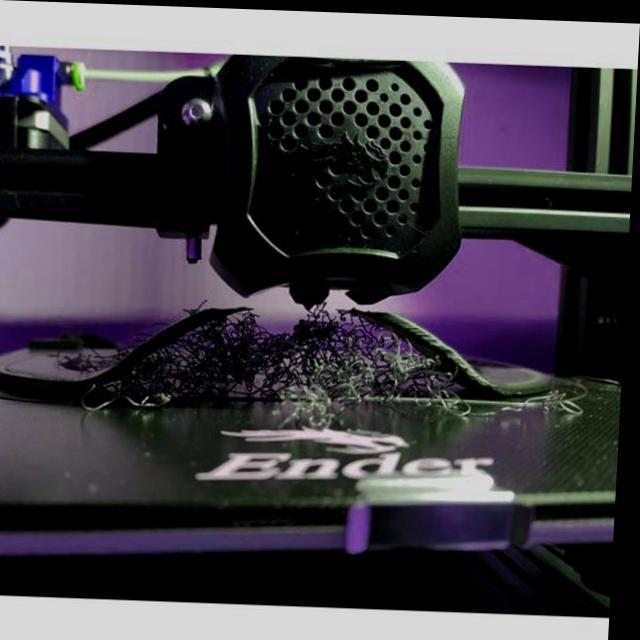spaghetti: (83, 294, 482, 420), (503, 384, 590, 413)
